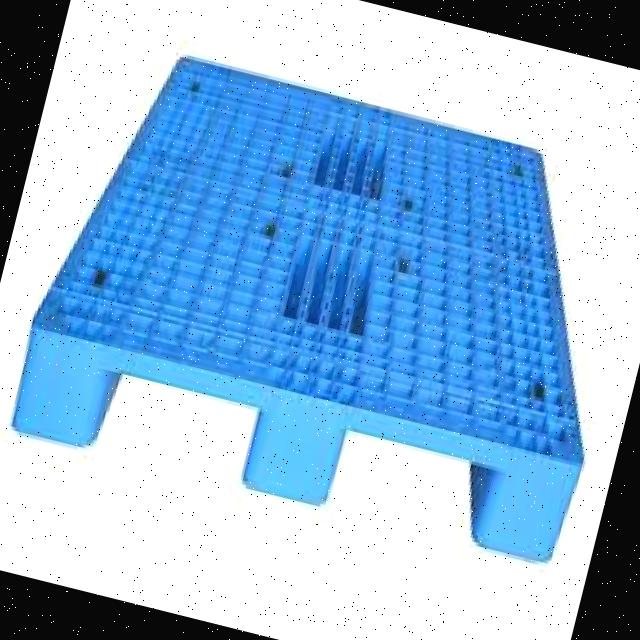block: (244, 386, 356, 507), (7, 328, 120, 446), (478, 448, 581, 566)
front: (11, 325, 581, 561)
hole pallet: (324, 434, 503, 540), (96, 374, 257, 485)
